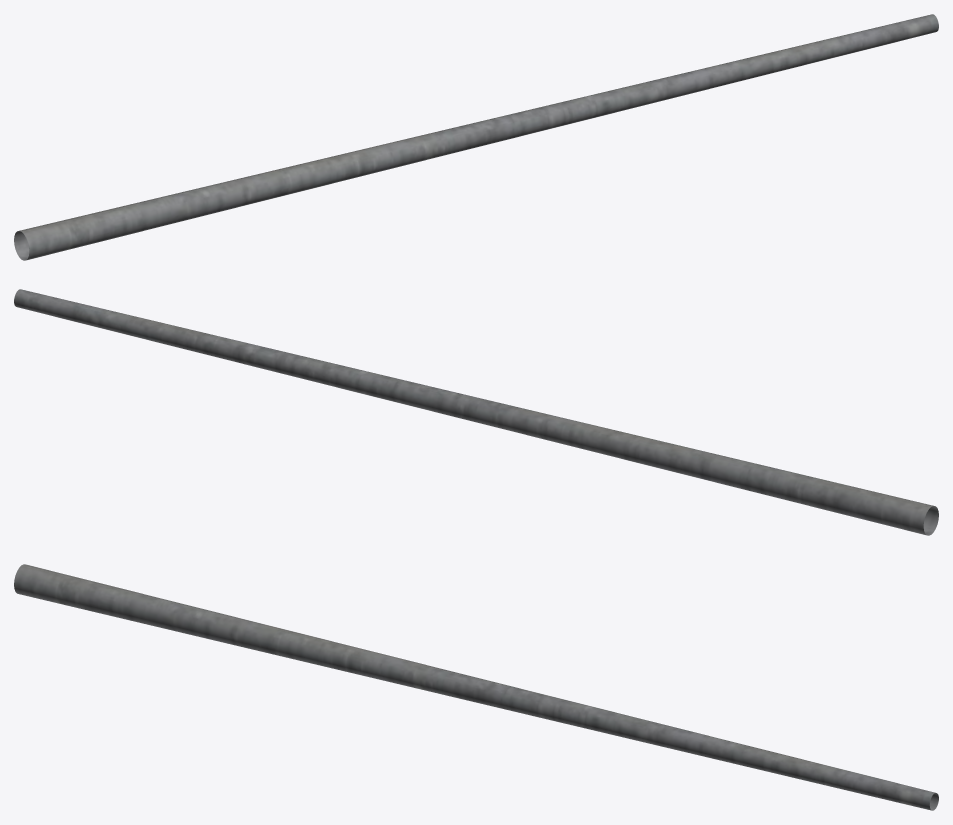
File: armLevel1-v1-galvanised.glb
3 views of the same model, one above another, from view 1: azimuth 30°, elevation 25°; view 2: azimuth 150°, elevation 25°; view 3: azimuth 330°, elevation 25° (orthographic).
Parts seen in each view (by area): view 1: armLevel1-v1-galvanised; view 2: armLevel1-v1-galvanised; view 3: armLevel1-v1-galvanised.
Part boxes in pixels (bbox=[...]): armLevel1-v1-galvanised: bbox=[14, 14, 938, 260]; armLevel1-v1-galvanised: bbox=[14, 289, 938, 535]; armLevel1-v1-galvanised: bbox=[14, 564, 938, 810].
Size of the model in its own units: 6.1 by 0.1778 by 0.1778.
1 material, 1 textured.
